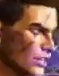kevin: (7, 5, 56, 75)
